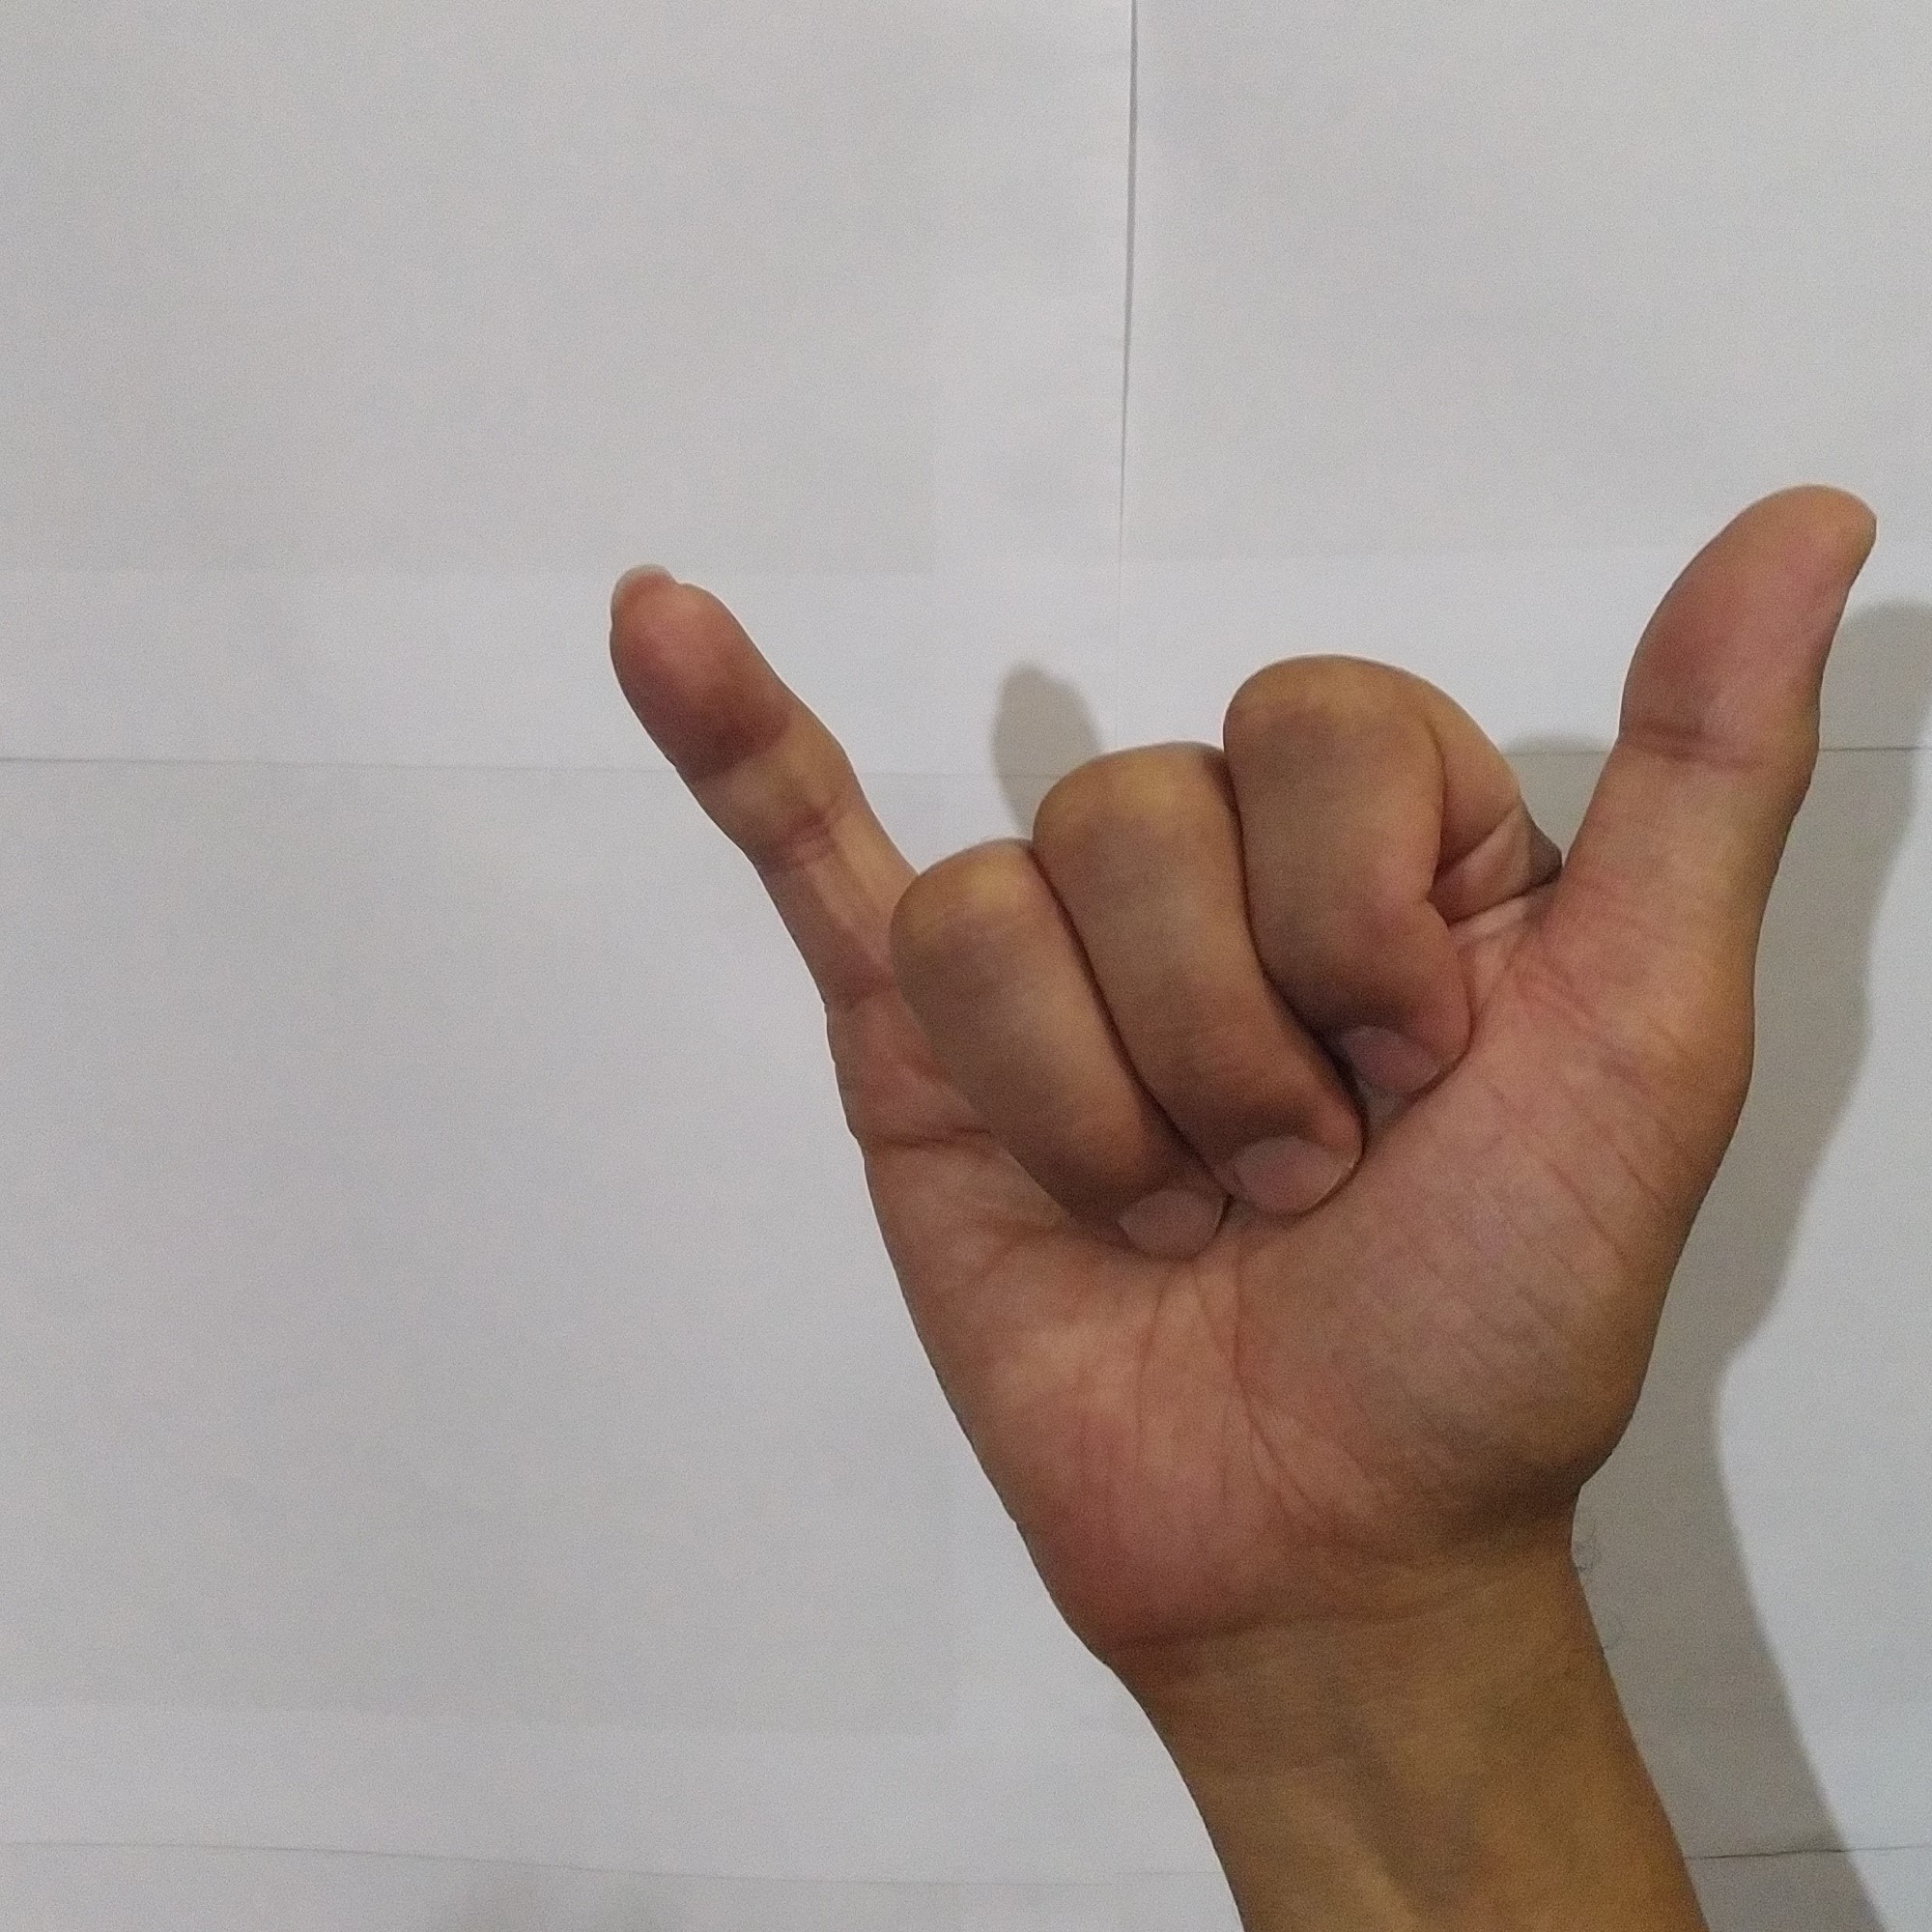Y: (580, 448, 1904, 1635)
